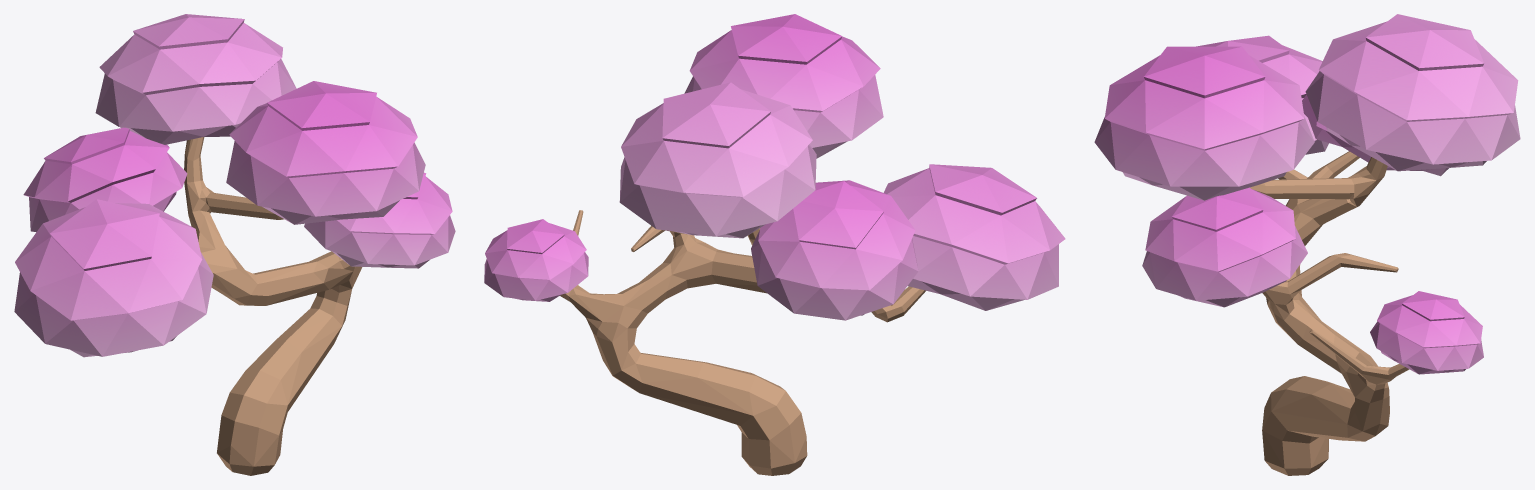
File: Tree_Cherry.fbx
3 renders of one model, left to right at view 1: azimuth 30°, elevation 25°; view 2: azimuth 150°, elevation 25°; view 3: azimuth 270°, elevation 25°, orthographic. The views are drawn at different scales.
Visible parts, largest first — view 1: Leaves.003, Leaves, Cube, Leaves.001, Leaves.004, Leaves.002; view 2: Leaves.001, Cube, Leaves.003, Leaves.004, Leaves, Leaves.005; view 3: Leaves, Leaves.001, Cube, Leaves.002, Leaves.005, Leaves.003, Leaves.004.
Part boxes in pixels (left/top/right/bottom): Leaves.003: left=14, top=199, right=213, bottom=357; Leaves: left=226, top=81, right=425, bottom=224; Cube: left=184, top=137, right=362, bottom=475; Leaves.001: left=95, top=14, right=296, bottom=144; Leaves.004: left=23, top=127, right=187, bottom=232; Leaves.002: left=304, top=172, right=455, bottom=268; Leaves.001: left=619, top=82, right=816, bottom=238; Cube: left=560, top=210, right=925, bottom=475; Leaves.003: left=883, top=164, right=1065, bottom=310; Leaves.004: left=751, top=180, right=918, bottom=320; Leaves: left=684, top=14, right=883, bottom=158; Leaves.005: left=484, top=219, right=588, bottom=301; Leaves: left=1094, top=46, right=1314, bottom=200; Leaves.001: left=1305, top=14, right=1520, bottom=171; Cube: left=1250, top=151, right=1409, bottom=475; Leaves.002: left=1142, top=187, right=1307, bottom=307; Leaves.005: left=1370, top=291, right=1483, bottom=374; Leaves.003: left=1196, top=35, right=1328, bottom=154; Leaves.004: left=1302, top=71, right=1448, bottom=176.
Size of the model in its own units: 459 by 384 by 336.
2 materials, 1 textured.
